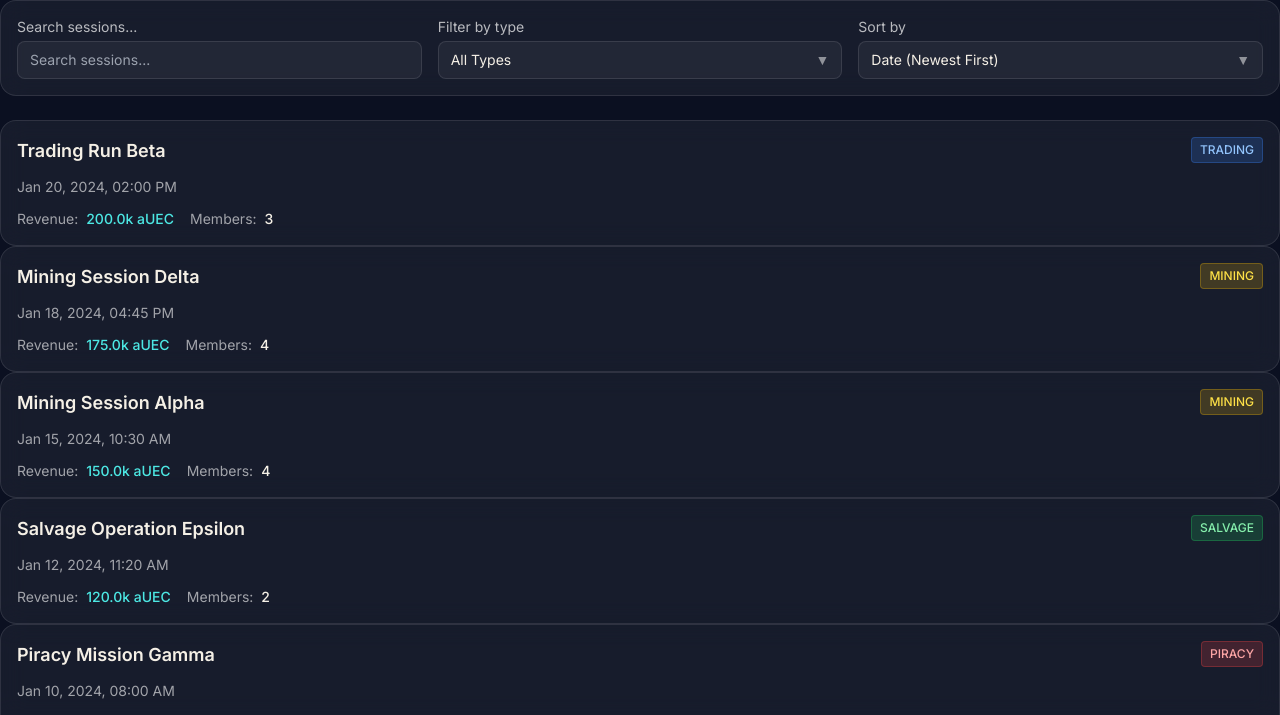
Test case: SessionList - Search Filtering › should filter sessions by partial name match
In the field with placeholder "Search sessions...": (219, 60) [17, 41, 422, 79], type "beta"
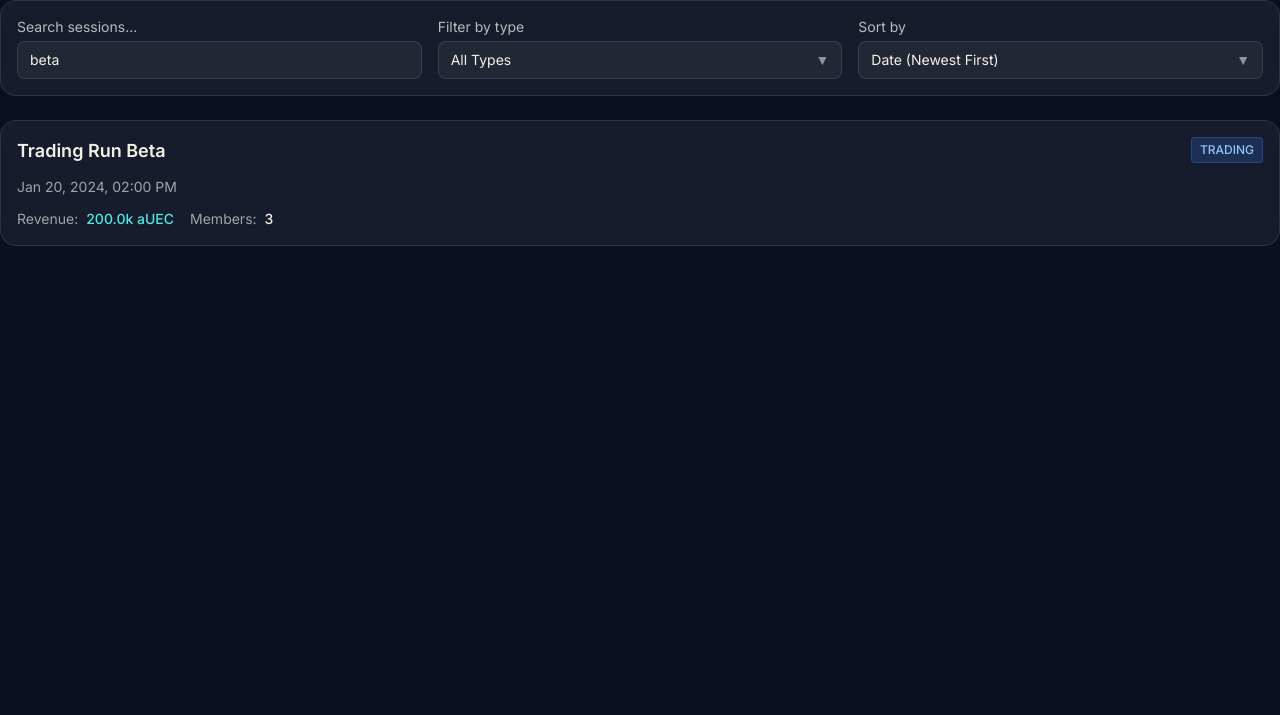
Expected: the heading "Trading Run Beta" is shown, [17, 140, 166, 161]
Expected: the link "Mining Session Alpha" is gone
